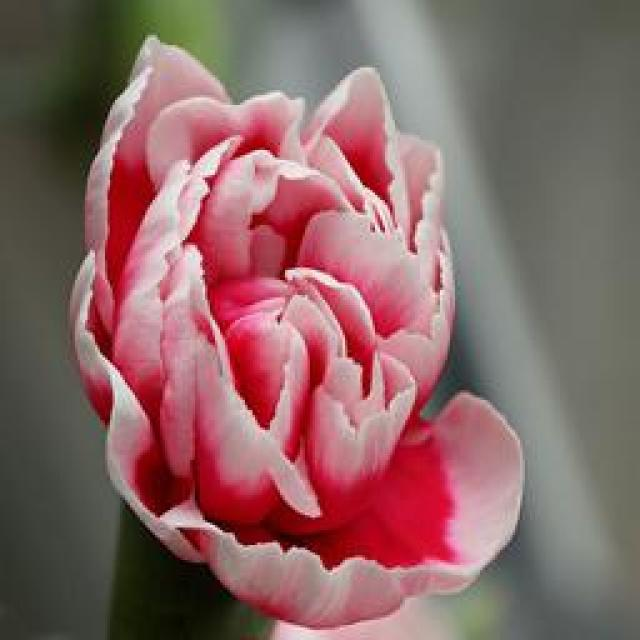carnation: (70, 32, 558, 640)
